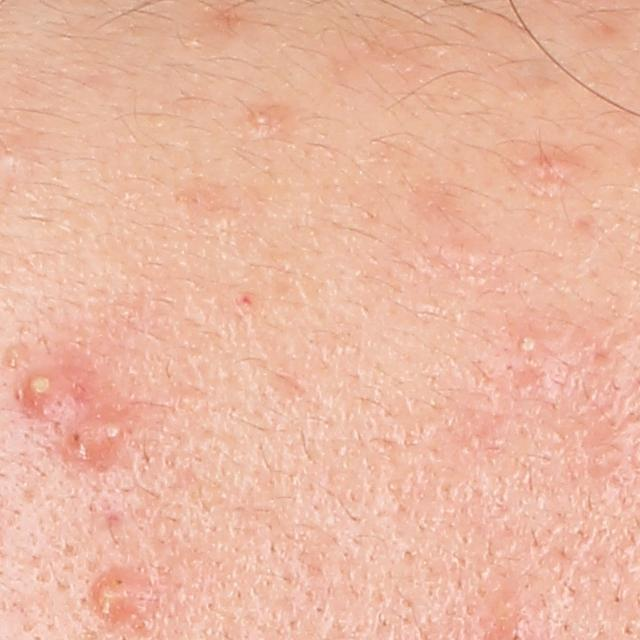comedo: (1, 340, 29, 367)
pustule: (11, 369, 79, 416), (92, 577, 136, 617), (514, 328, 538, 356)
